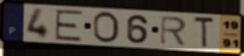4: (25, 7, 52, 41)
6: (126, 13, 150, 45)
E: (54, 9, 85, 43)
O: (92, 11, 121, 44)
R: (159, 15, 188, 47)
T: (193, 15, 217, 50)
